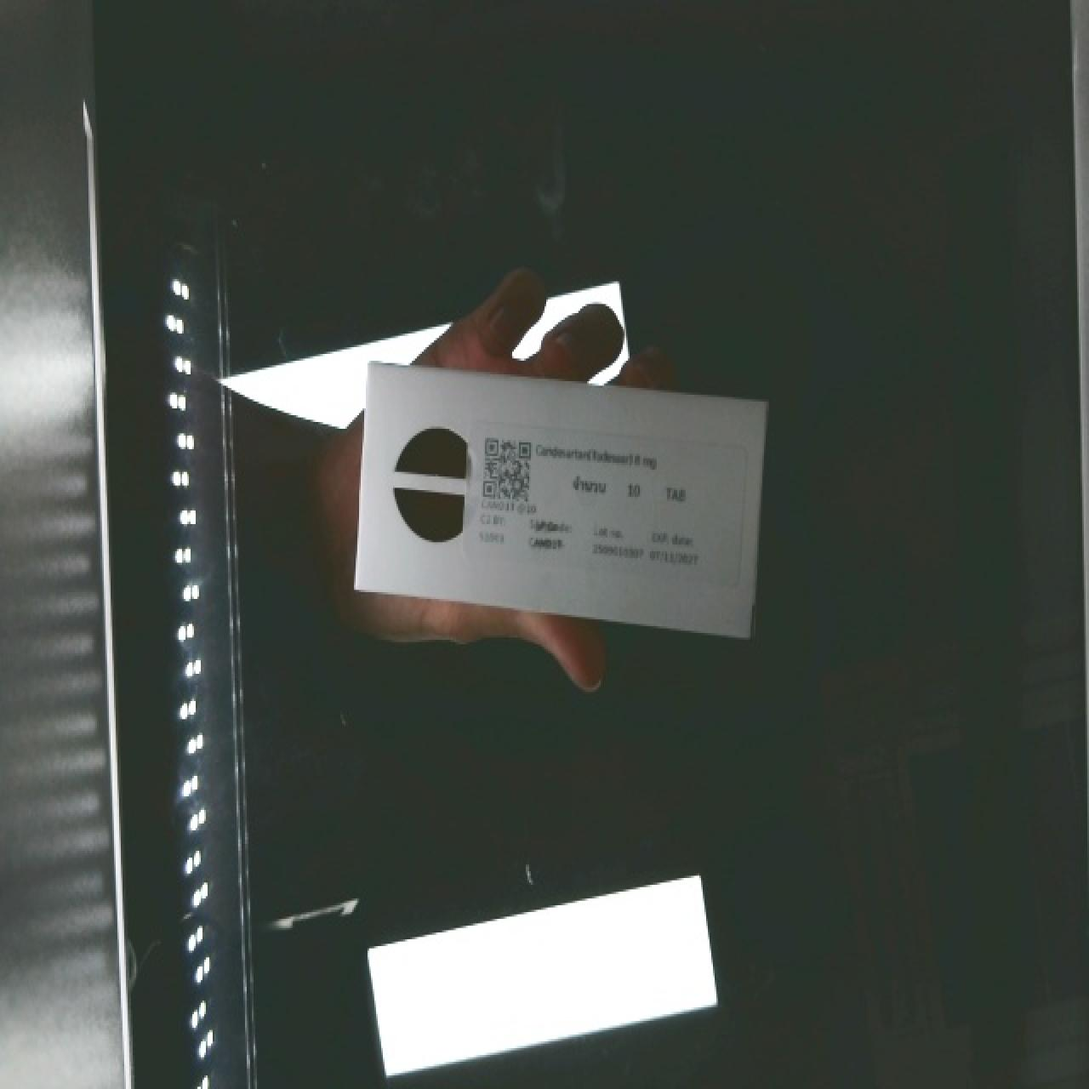qr_code: (466, 420, 548, 516)
